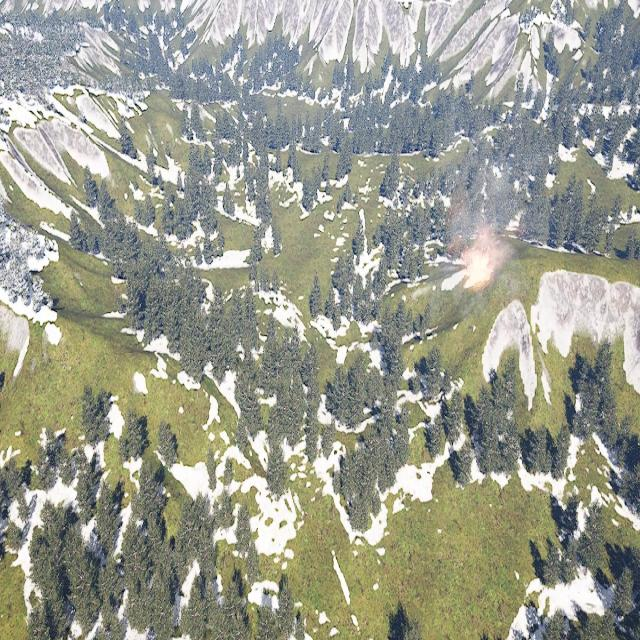fire: (465, 252, 491, 290)
smoke: (449, 162, 517, 271)
